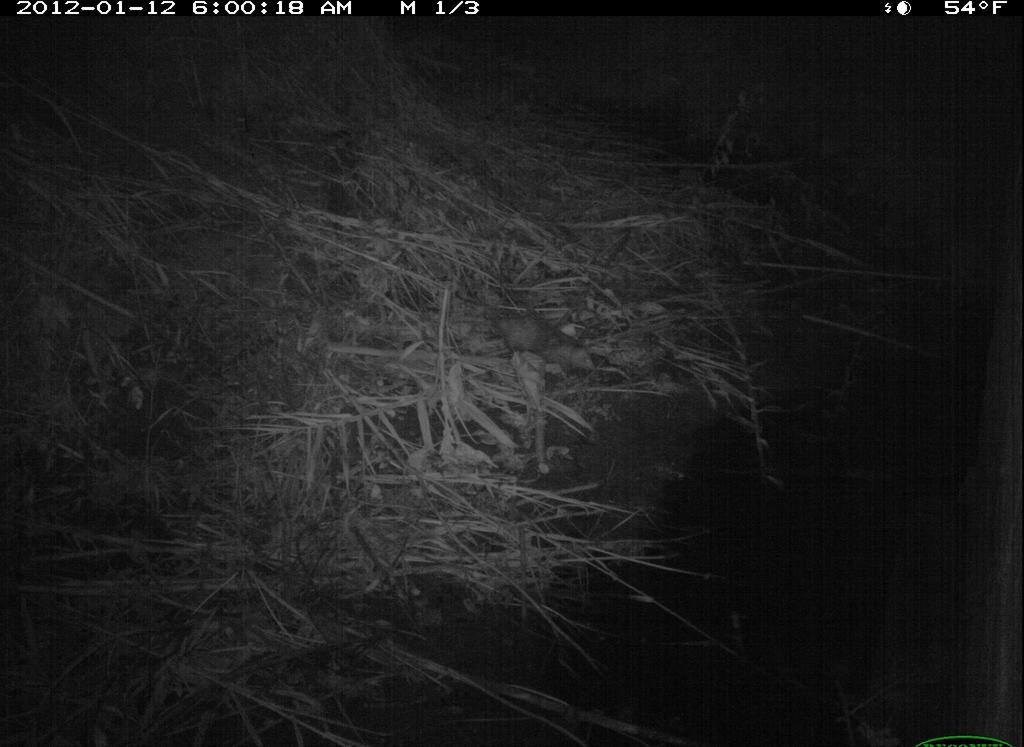opossum: (466, 299, 600, 381)
